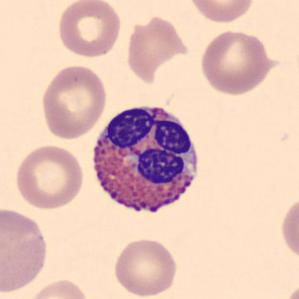Eosinophil: (84, 96, 206, 227)
RBC: (38, 62, 109, 141), (198, 27, 276, 96), (12, 142, 86, 211), (124, 12, 191, 86), (0, 204, 50, 295), (110, 235, 180, 298), (55, 0, 123, 59), (185, 0, 256, 24), (277, 191, 299, 264), (26, 276, 90, 299), (282, 280, 298, 299)
